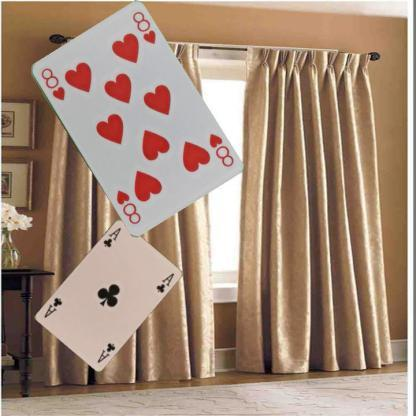8h: (206, 130, 235, 168), (38, 64, 66, 102)
Ac: (94, 340, 116, 364), (100, 225, 122, 248)
